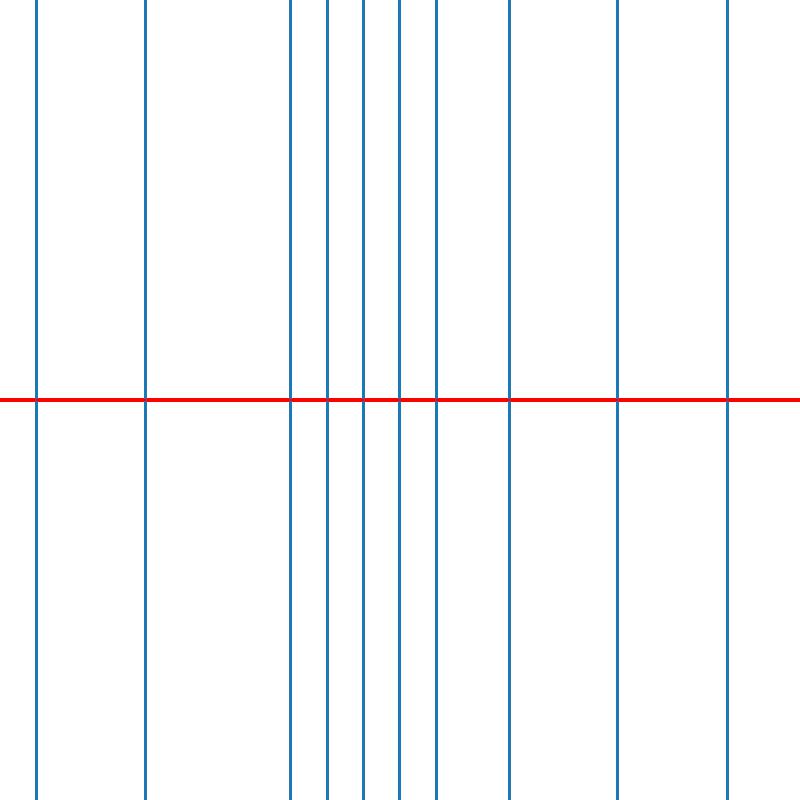root: (432, 396, 440, 404), (141, 396, 149, 404), (32, 396, 40, 404), (505, 396, 512, 404), (723, 396, 730, 404), (396, 396, 403, 404), (323, 396, 330, 404), (360, 396, 367, 404), (287, 396, 294, 404), (614, 396, 621, 404)
